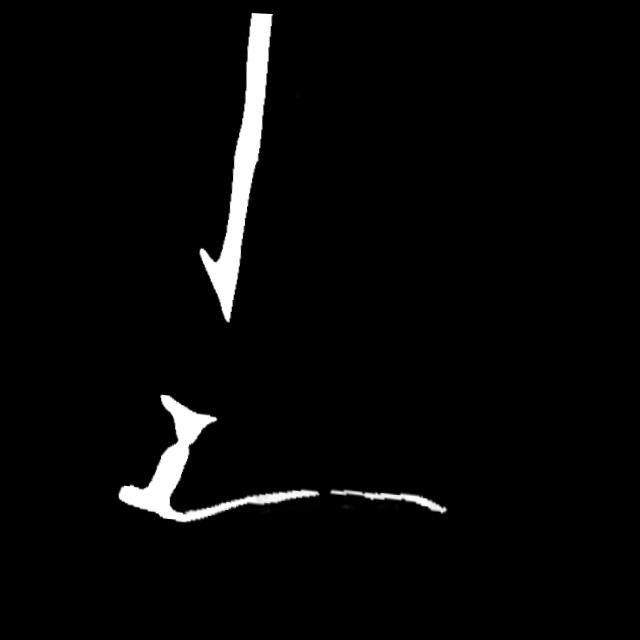sup: (301, 473, 337, 506)
